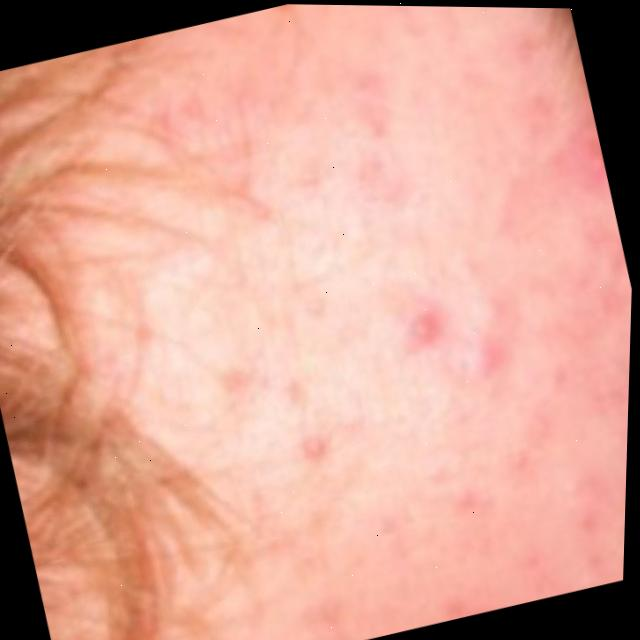Acne: (119, 2, 619, 640)
